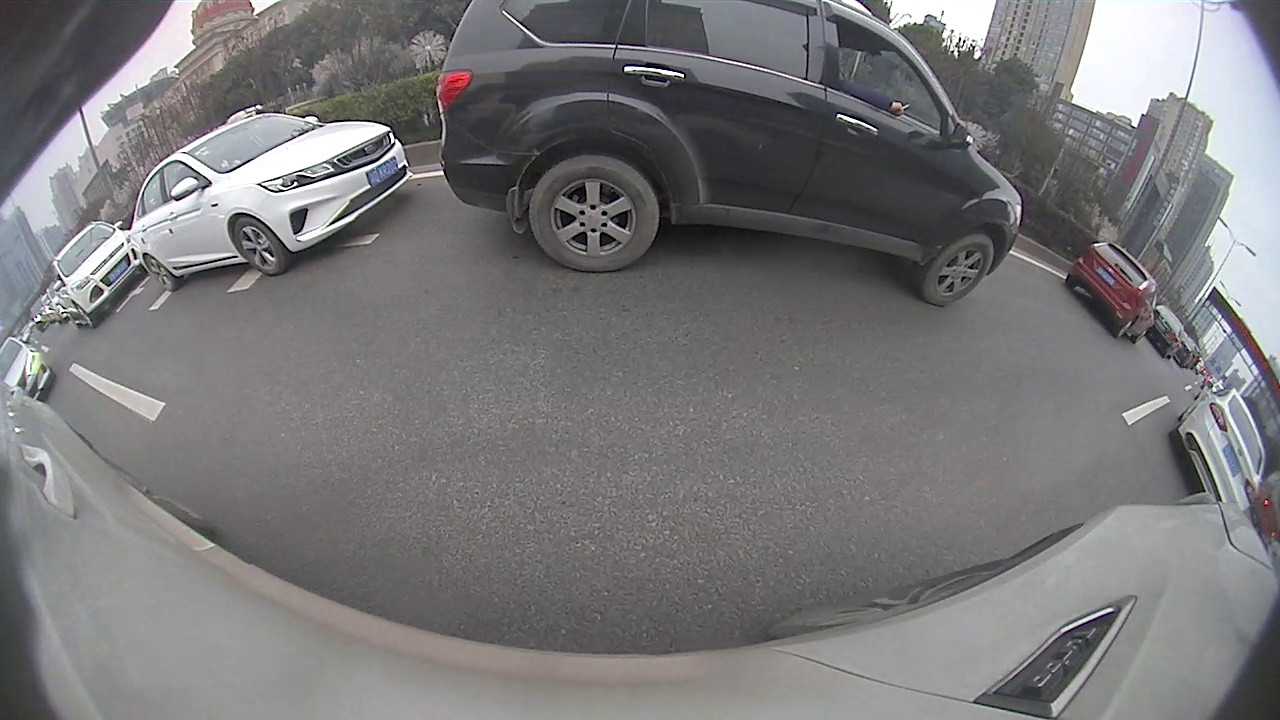car: (434, 0, 1025, 309), (128, 111, 415, 293), (1167, 386, 1269, 513), (48, 219, 146, 332), (1066, 240, 1160, 345), (0, 336, 56, 403)
front: (918, 231, 996, 306), (231, 217, 290, 278)
rear: (528, 153, 660, 274), (146, 254, 182, 292)
